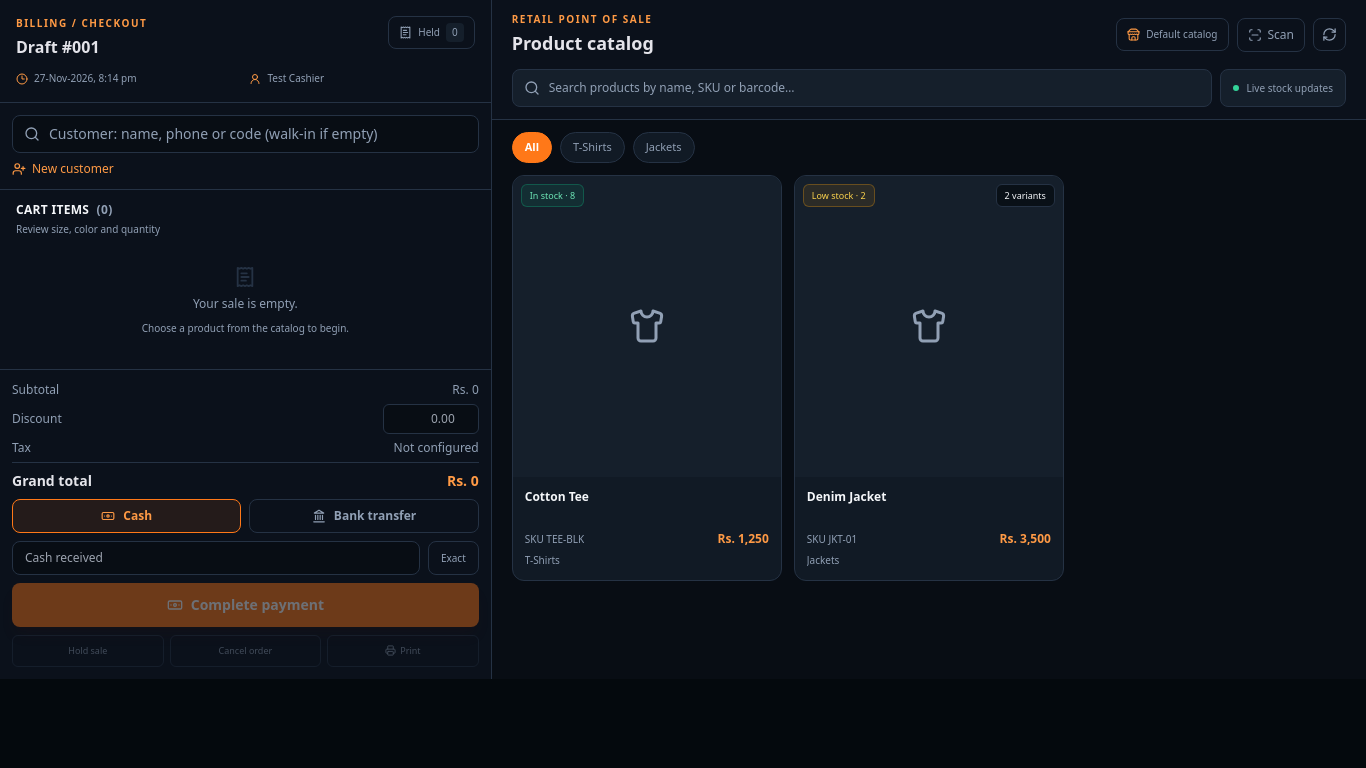
Test case: POS terminal › filters catalog using real product categories and SKU search
Click the button "T-Shirts": (592, 147) [560,132,625,162]
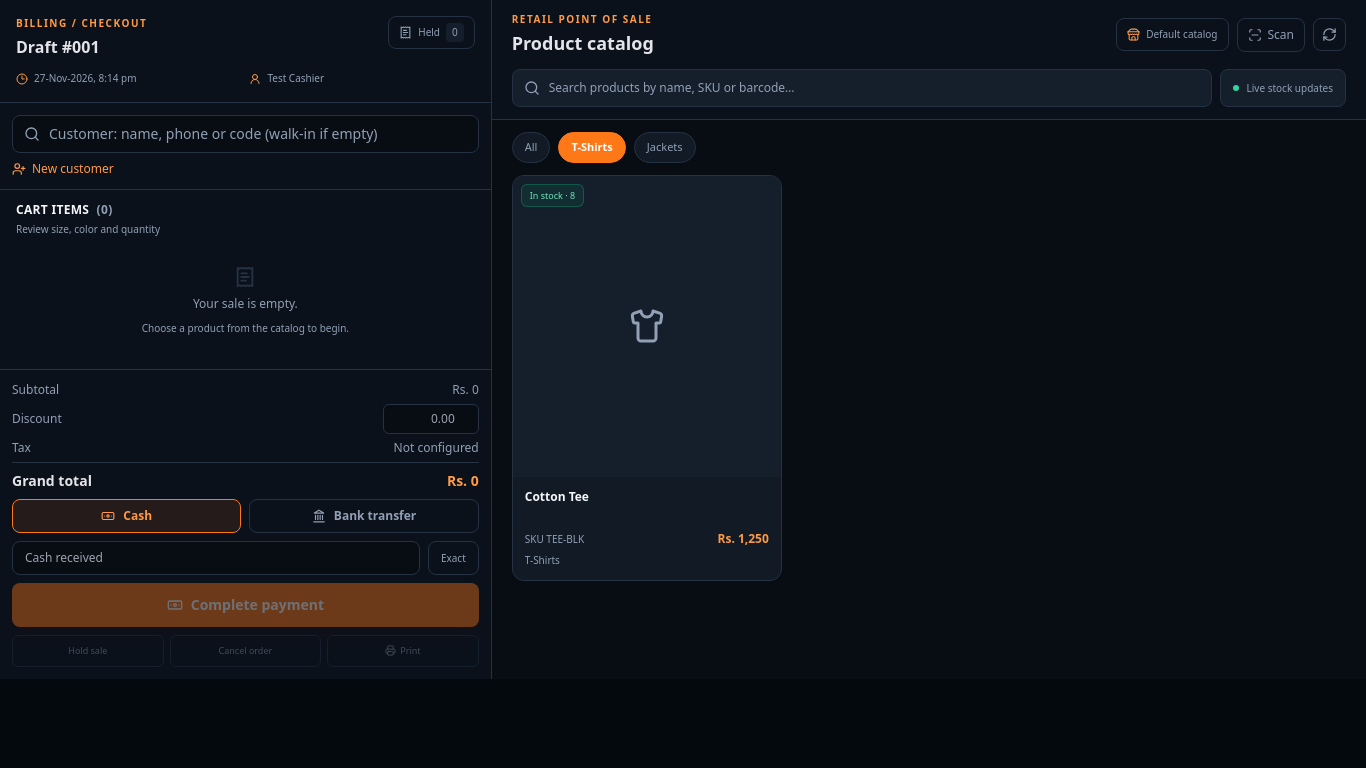
Expected: the button "In stock · 8 Cotton Tee SKU TEE-BLK Rs. 1,250 T-Shirts" is shown, [512,174,782,581]
Now the button "Denim Jacket" is gone
Click the button "All": (531, 147) [512,132,550,162]
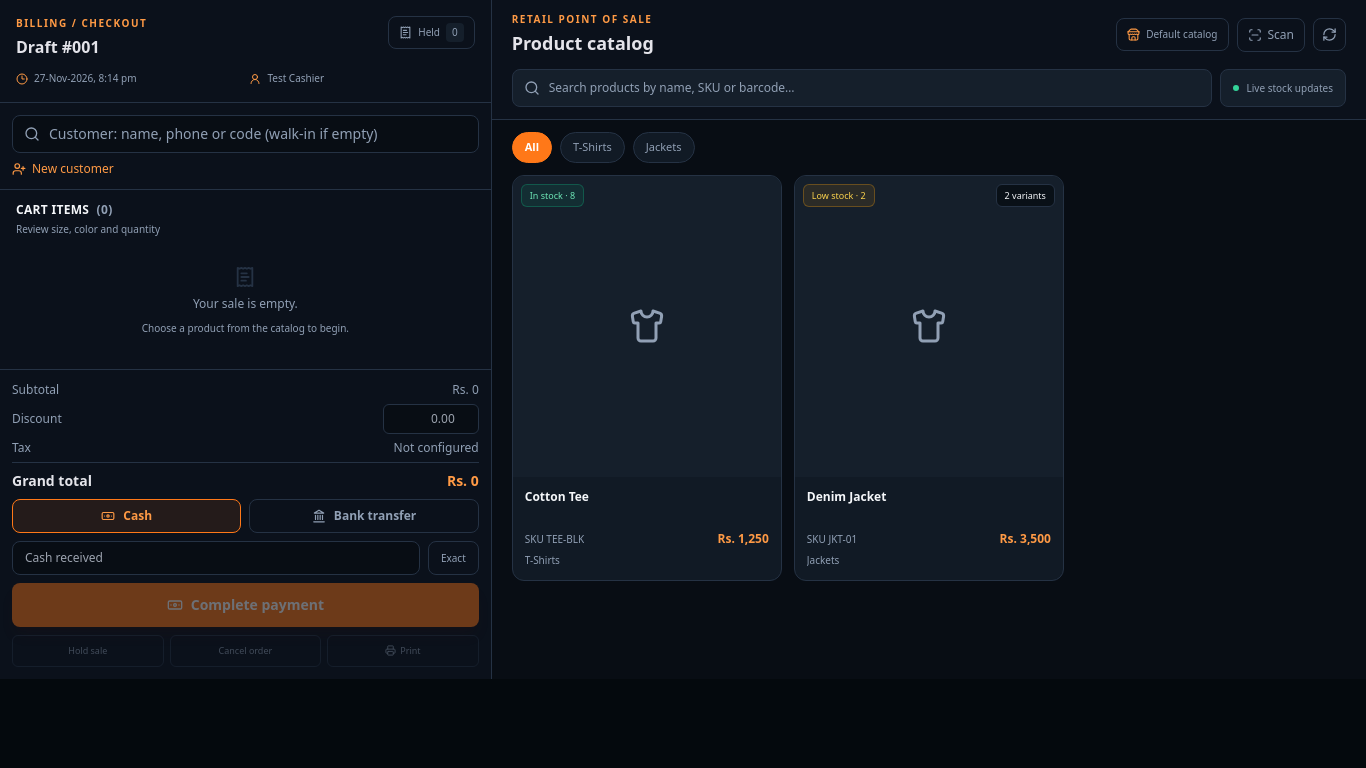
In the field labelled "Search products": (862, 88) [512,69,1212,107], type "JKT-M-NVY"
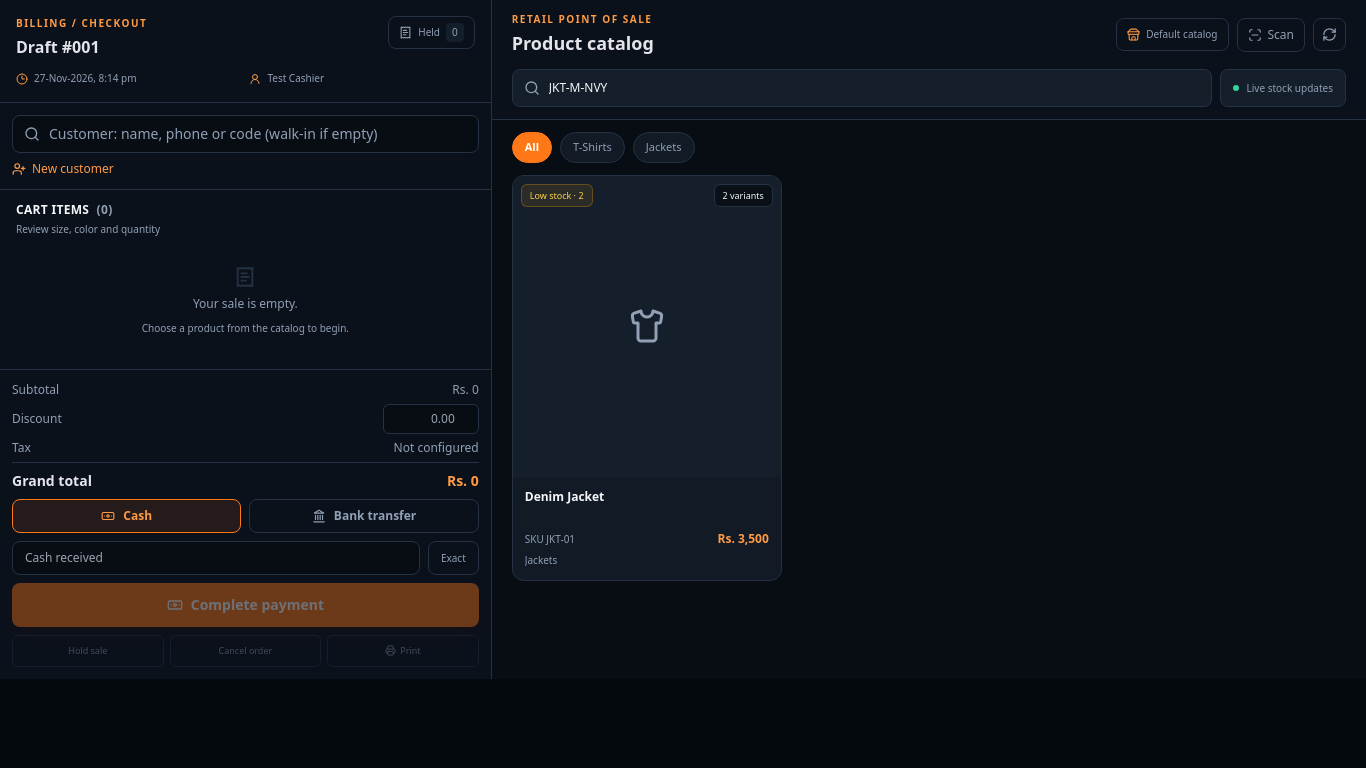
Now the button "Denim Jacket" is shown, box [512,174,782,581]
Now the button "Cotton Tee" is gone
